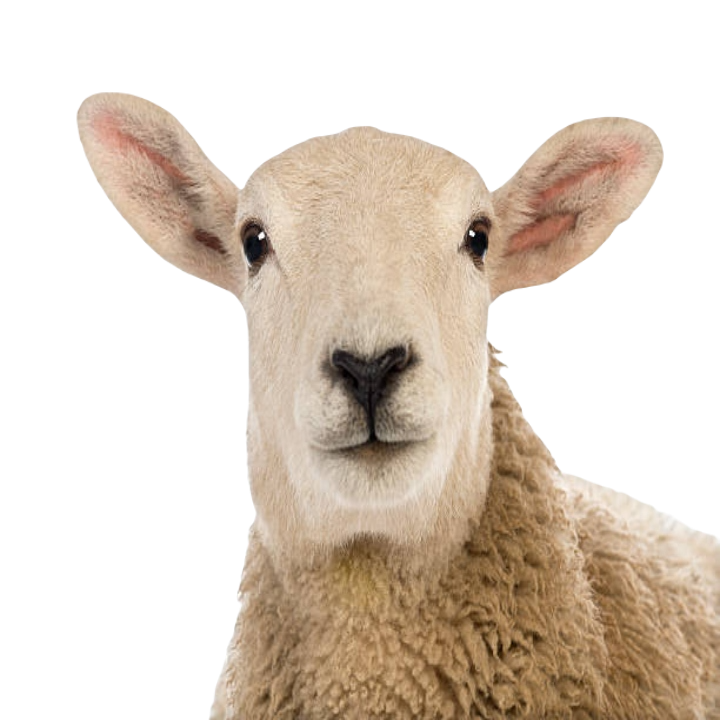Sheep: (72, 88, 719, 719)
